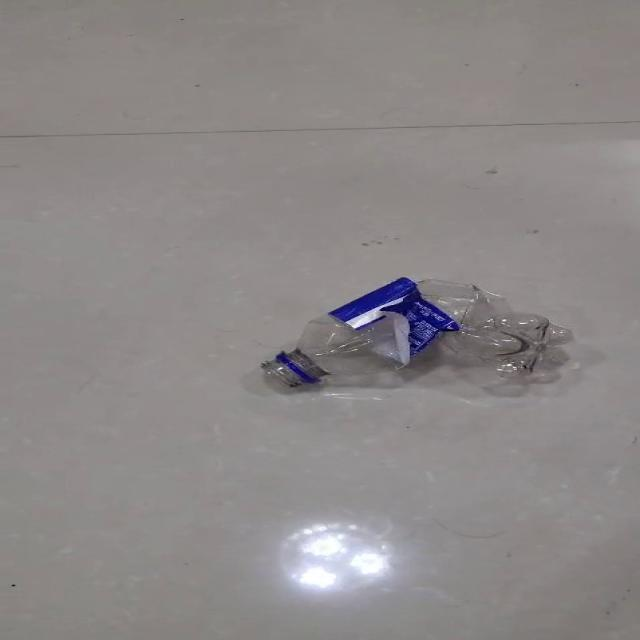plastic: (258, 276, 573, 394)
